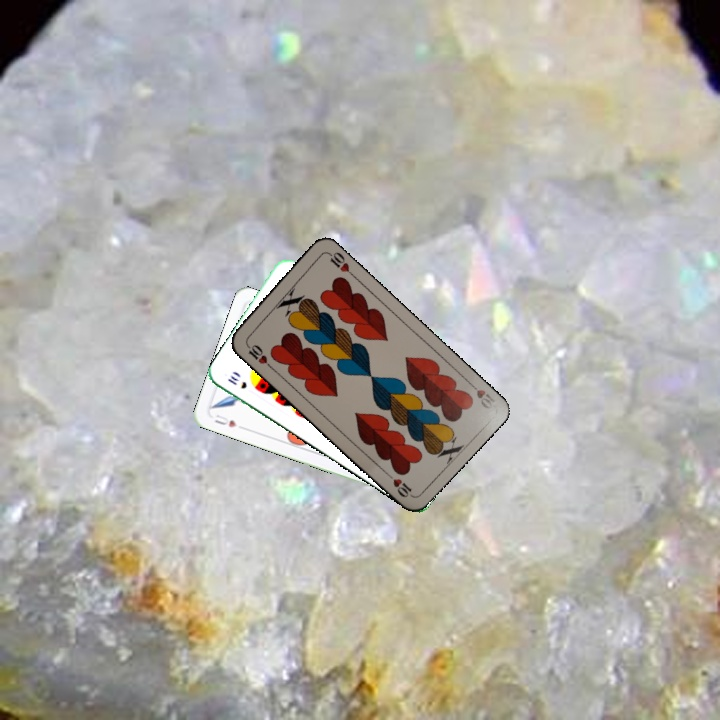H10: (464, 376, 498, 412), (242, 339, 274, 371)
HU: (211, 410, 246, 432)
S10: (223, 371, 249, 391)
